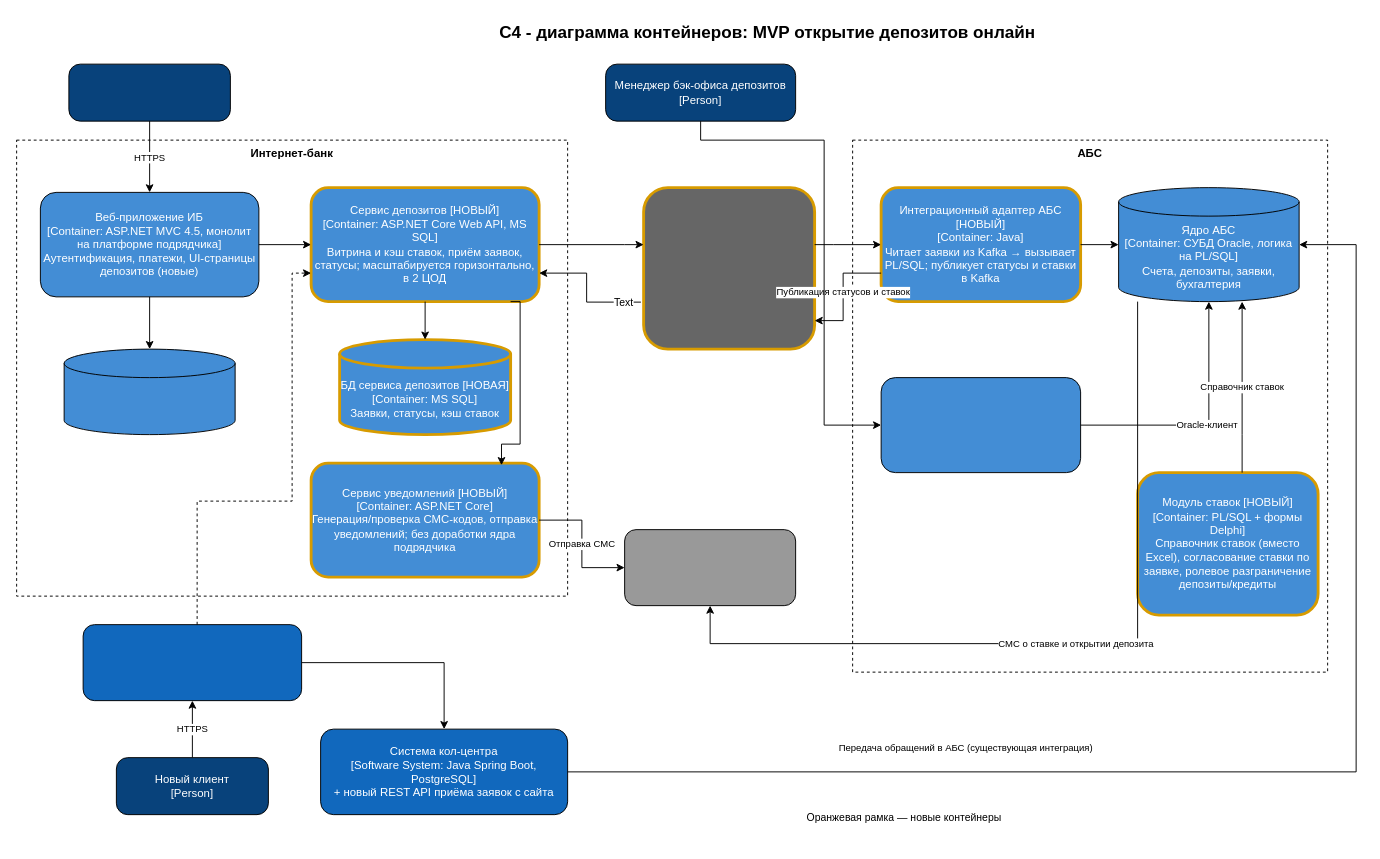
This 1380x859 diagram has some shape labels left out. The centre of each missing label's shape, as x and y in pixels:
"Apache Kafka [Container: кластер очередей]" belongs at [729,268].
"БД интернет-банка [Container: MS SQL]" belongs at [149,391].
"Клиент АБС [Container: десктоп, Delphi] Рабочее место бэк-офиса" belongs at [980,425].
"Клиент банка [Person]" belongs at [149,92].
"Сайт [Software System: PHP, React.js] Витрина депозитов, форма заявки" belongs at [192,662].
"СМС-шлюз → Телеком-оператор [External System]" belongs at [710,567].
